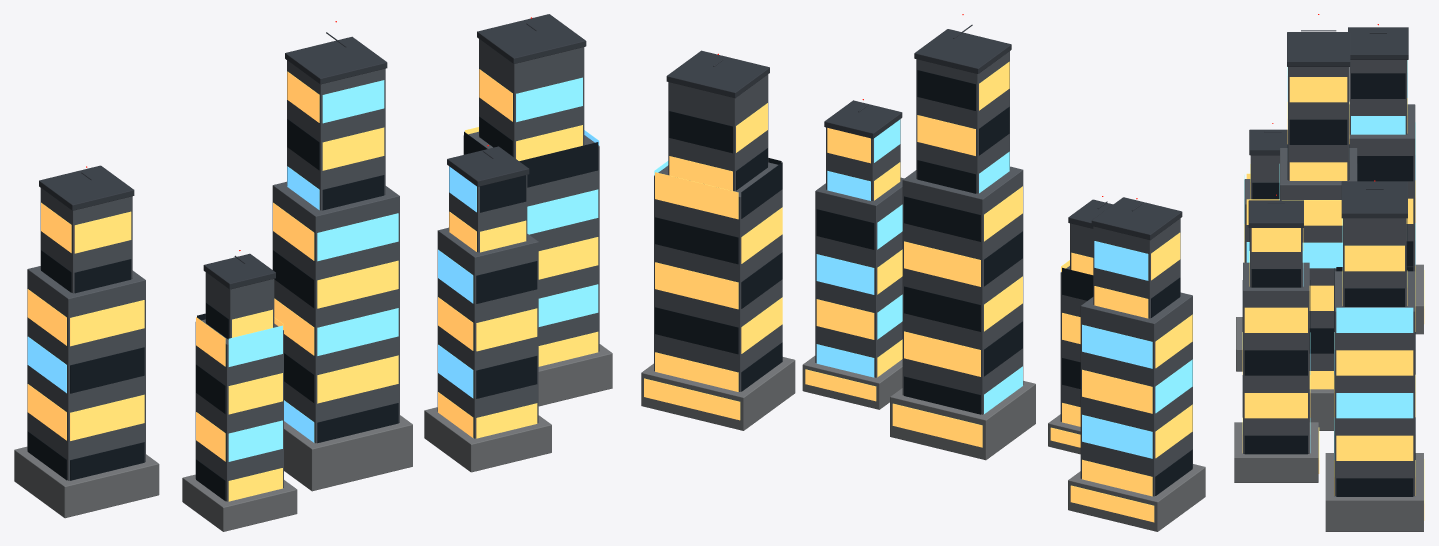
The model's file is distant-skyline-lod2.glb.
3 views of the same model, side by side, from view 1: azimuth 30°, elevation 25°; view 2: azimuth 150°, elevation 25°; view 3: azimuth 270°, elevation 25° (orthographic). The views are drawn at different scales.
Visible parts, largest first — view 1: SKYLINE_LOD2_BATCH_01_MAT_SkylineConcrete, SKYLINE_LOD2_BATCH_06_MAT_SkylineWarmInterior, SKYLINE_LOD2_BATCH_05_MAT_SkylineStone, SKYLINE_LOD2_BATCH_03_MAT_SkylineDarkInterior, SKYLINE_LOD2_BATCH_02_MAT_SkylineCoolInterior, SKYLINE_LOD2_BATCH_04_MAT_SkylineMetal; view 2: SKYLINE_LOD2_BATCH_01_MAT_SkylineConcrete, SKYLINE_LOD2_BATCH_06_MAT_SkylineWarmInterior, SKYLINE_LOD2_BATCH_03_MAT_SkylineDarkInterior, SKYLINE_LOD2_BATCH_05_MAT_SkylineStone, SKYLINE_LOD2_BATCH_02_MAT_SkylineCoolInterior, SKYLINE_LOD2_BATCH_04_MAT_SkylineMetal; view 3: SKYLINE_LOD2_BATCH_01_MAT_SkylineConcrete, SKYLINE_LOD2_BATCH_06_MAT_SkylineWarmInterior, SKYLINE_LOD2_BATCH_03_MAT_SkylineDarkInterior, SKYLINE_LOD2_BATCH_04_MAT_SkylineMetal, SKYLINE_LOD2_BATCH_05_MAT_SkylineStone, SKYLINE_LOD2_BATCH_02_MAT_SkylineCoolInterior.
Part boxes in pixels (x1,y1,x2,y2): SKYLINE_LOD2_BATCH_01_MAT_SkylineConcrete: (27,39,599,501); SKYLINE_LOD2_BATCH_06_MAT_SkylineWarmInterior: (27,69,598,501); SKYLINE_LOD2_BATCH_05_MAT_SkylineStone: (14,344,612,531); SKYLINE_LOD2_BATCH_03_MAT_SkylineDarkInterior: (27,116,598,501); SKYLINE_LOD2_BATCH_02_MAT_SkylineCoolInterior: (27,77,599,461); SKYLINE_LOD2_BATCH_04_MAT_SkylineMetal: (39,14,586,289); SKYLINE_LOD2_BATCH_01_MAT_SkylineConcrete: (654,51,1192,496); SKYLINE_LOD2_BATCH_06_MAT_SkylineWarmInterior: (644,61,1192,522); SKYLINE_LOD2_BATCH_03_MAT_SkylineDarkInterior: (655,70,1192,495); SKYLINE_LOD2_BATCH_05_MAT_SkylineStone: (641,356,1205,531); SKYLINE_LOD2_BATCH_02_MAT_SkylineCoolInterior: (654,119,1192,458); SKYLINE_LOD2_BATCH_04_MAT_SkylineMetal: (666,24,1182,240); SKYLINE_LOD2_BATCH_01_MAT_SkylineConcrete: (1243,60,1415,496); SKYLINE_LOD2_BATCH_06_MAT_SkylineWarmInterior: (1242,77,1424,520); SKYLINE_LOD2_BATCH_03_MAT_SkylineDarkInterior: (1242,67,1415,496); SKYLINE_LOD2_BATCH_04_MAT_SkylineMetal: (1248,27,1408,227); SKYLINE_LOD2_BATCH_05_MAT_SkylineStone: (1234,264,1423,531); SKYLINE_LOD2_BATCH_02_MAT_SkylineCoolInterior: (1244,60,1415,459).
Size of the model in its own units: 161 by 124 by 54.2.
